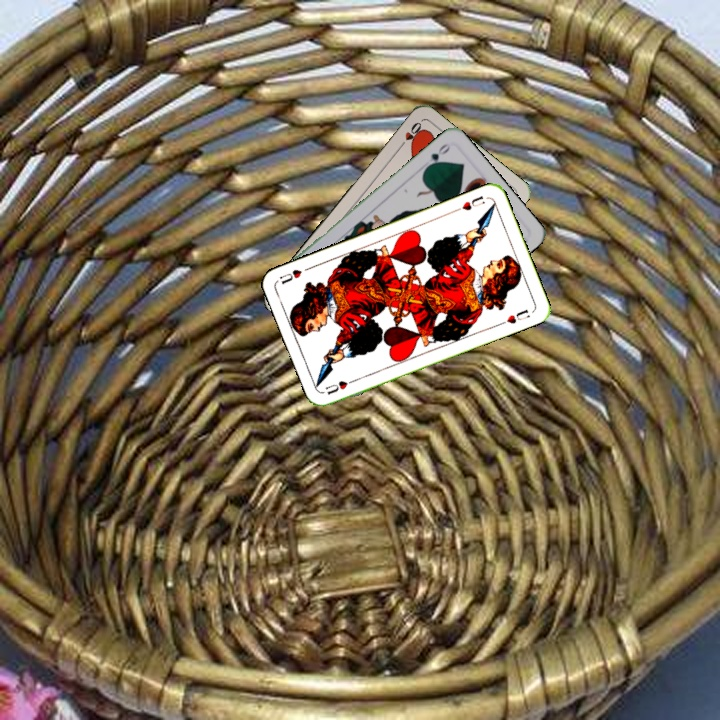GO: (421, 139, 454, 172)
HO: (394, 118, 424, 152)
HU: (321, 375, 359, 397), (451, 192, 487, 214)
